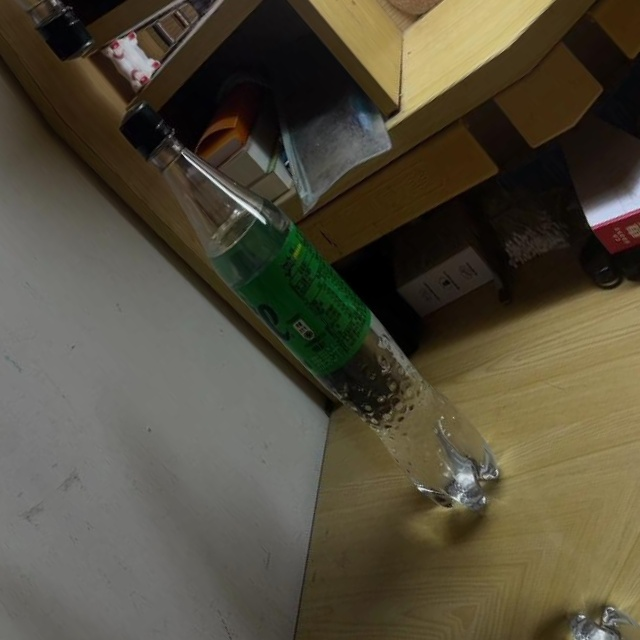Sprite: (100, 72, 515, 541)
